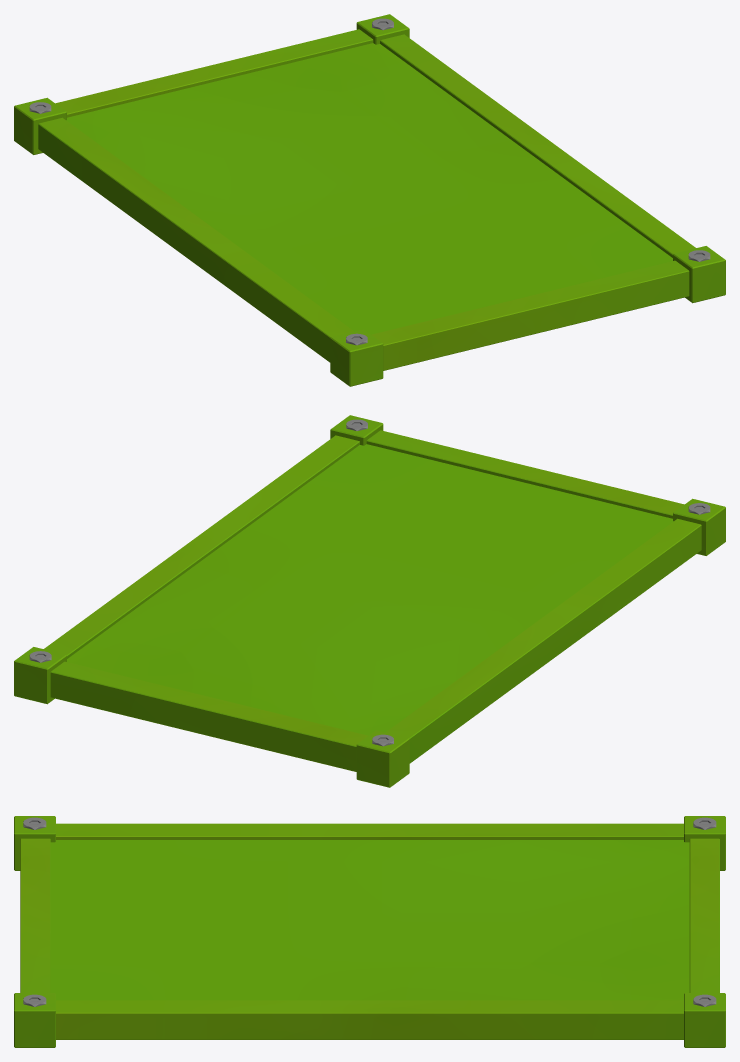
Rendered from DoubleFramedPlatformGreen.fbx.
3 views of the same model, one above another, from view 1: azimuth 30°, elevation 25°; view 2: azimuth 150°, elevation 25°; view 3: azimuth 270°, elevation 25° (orthographic). The views are drawn at different scales.
Visible parts, largest first — view 1: Cube, Cube.001; view 2: Cube, Cube.001; view 3: Cube, Cube.001.
Part boxes in pixels (bbox=[...]): Cube: bbox=[14, 14, 725, 386]; Cube.001: bbox=[29, 18, 710, 345]; Cube: bbox=[14, 415, 725, 787]; Cube.001: bbox=[29, 419, 710, 746]; Cube: bbox=[14, 816, 725, 1047]; Cube.001: bbox=[23, 817, 716, 1006].
Size of the model in its own units: 11 by 1.05 by 17.
